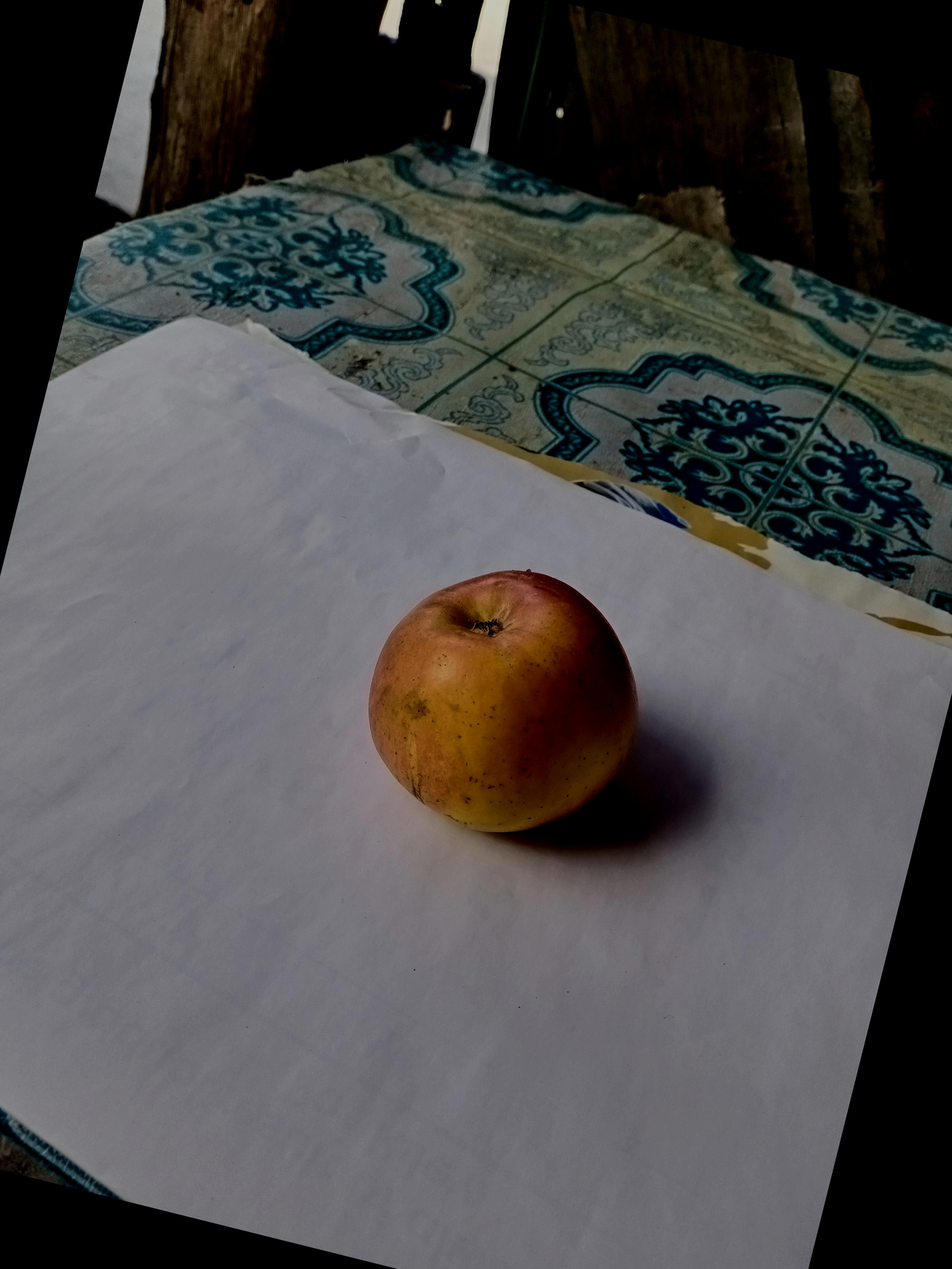Apple Ripe: (523, 406, 896, 777)
